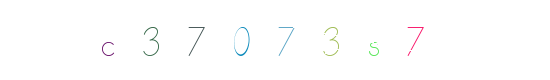0: (222, 0, 302, 80)
3: (112, 0, 192, 80), (235, 0, 315, 80)
7: (132, 0, 212, 80), (229, 0, 309, 80), (375, 0, 455, 80)
C: (67, 0, 147, 80)
S: (309, 0, 389, 80)
